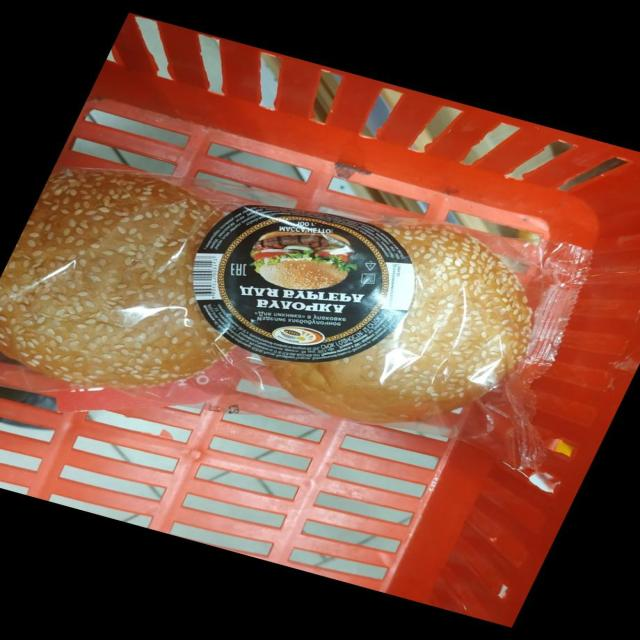Bread: (0, 168, 531, 423)
